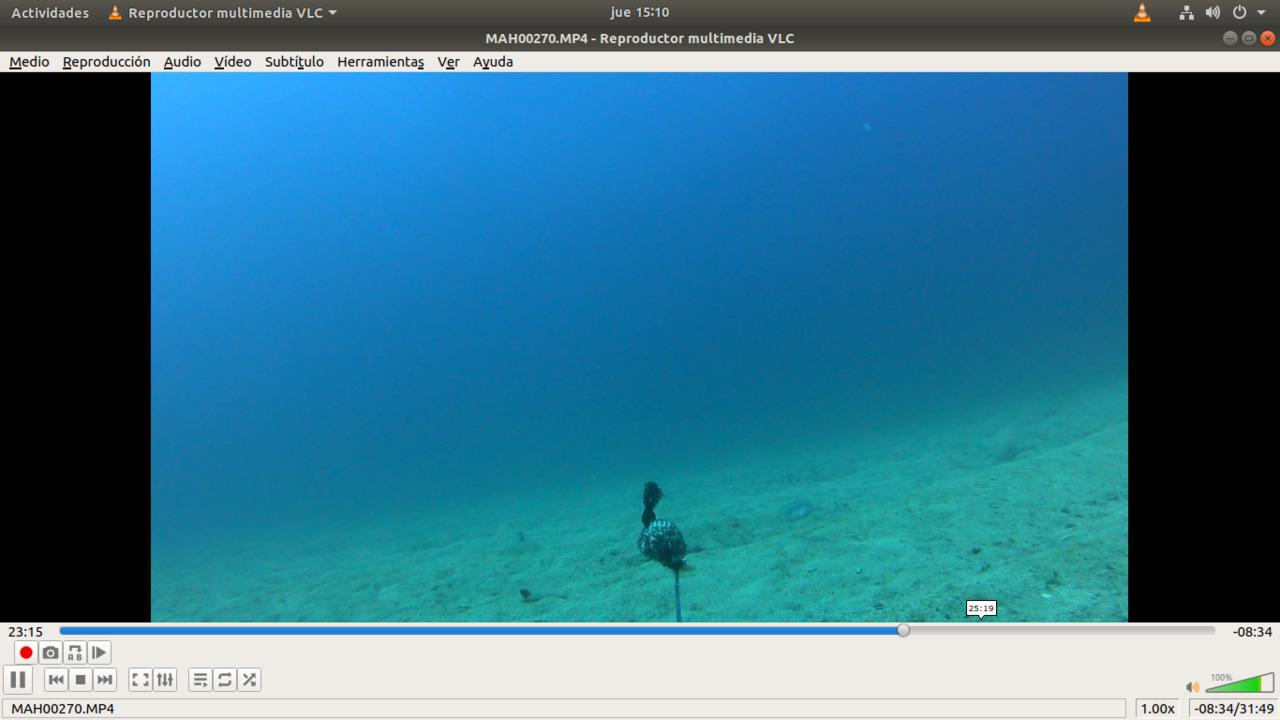raor: (772, 492, 825, 526)
